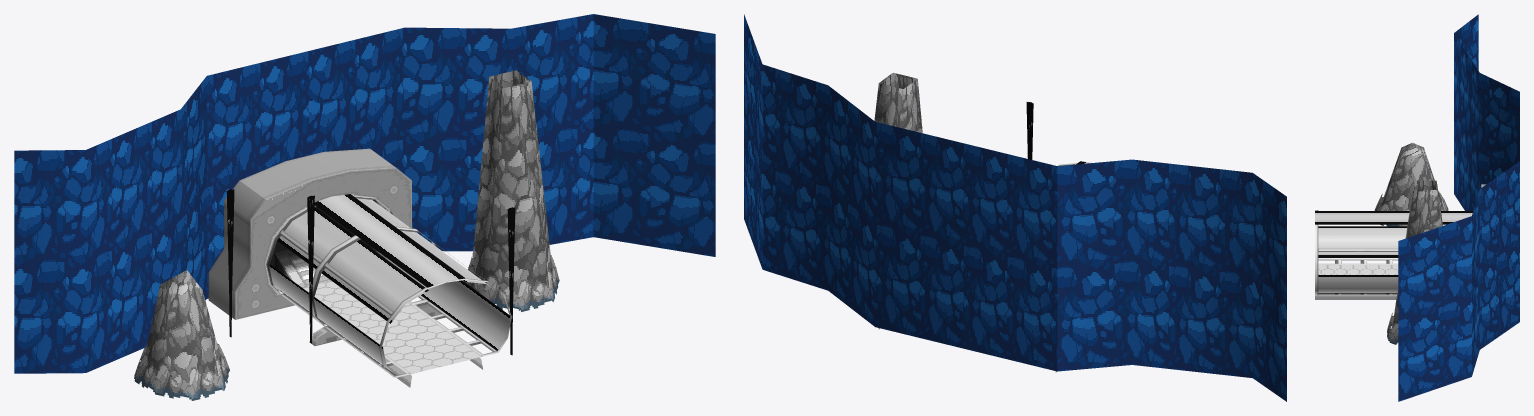
The model's file is MARINE1-13.obj.
3 renders of one model, left to right at view 1: azimuth 30°, elevation 25°; view 2: azimuth 150°, elevation 25°; view 3: azimuth 270°, elevation 25°, orthographic. The views are drawn at different scales.
Parts seen in each view (by area): view 1: polygon10, polygon2, polygon20, polygon8, polygon4, polygon7, polygon5, polygon14, polygon6, polygon12, polygon3, polygon0; view 2: polygon10, polygon2; view 3: polygon10, polygon20, polygon2, polygon5, polygon4, polygon7, polygon3, polygon6.
Boxes of the visible parts, x1=… form: polygon10: x1=14, y1=14, x2=715, y2=373; polygon2: x1=145, y1=70, x2=552, y2=380; polygon20: x1=269, y1=194, x2=510, y2=374; polygon8: x1=208, y1=148, x2=411, y2=319; polygon4: x1=303, y1=281, x2=480, y2=373; polygon7: x1=134, y1=252, x2=559, y2=400; polygon5: x1=266, y1=195, x2=511, y2=377; polygon14: x1=307, y1=195, x2=515, y2=355; polygon6: x1=280, y1=293, x2=498, y2=377; polygon12: x1=270, y1=200, x2=389, y2=293; polygon3: x1=296, y1=302, x2=482, y2=387; polygon0: x1=226, y1=189, x2=234, y2=337; polygon10: x1=744, y1=14, x2=1286, y2=401; polygon2: x1=874, y1=72, x2=922, y2=133; polygon10: x1=1398, y1=14, x2=1519, y2=401; polygon20: x1=1315, y1=211, x2=1473, y2=293; polygon2: x1=1379, y1=142, x2=1444, y2=326; polygon5: x1=1315, y1=210, x2=1398, y2=295; polygon4: x1=1318, y1=265, x2=1398, y2=274; polygon7: x1=1374, y1=192, x2=1448, y2=344; polygon3: x1=1315, y1=293, x2=1396, y2=299; polygon6: x1=1318, y1=259, x2=1398, y2=294.
Bounding box in the file's own units: 2.62 × 0.8748 × 1.
